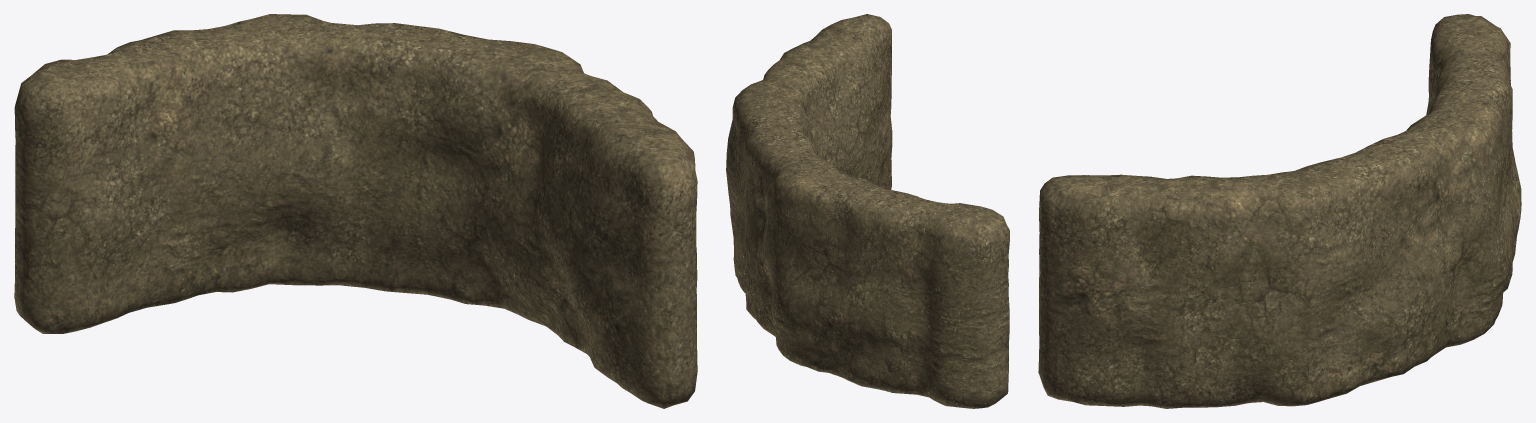
Rendered from CaveWalls2_C.obj.
The picture shows the model from 3 angles, left to right: view 1: azimuth 30°, elevation 25°; view 2: azimuth 150°, elevation 25°; view 3: azimuth 270°, elevation 25°; orthographic projection. The views are drawn at different scales.
Parts seen in each view (by area): view 1: CaveWalls2C; view 2: CaveWalls2C; view 3: CaveWalls2C.
Boxes of the visible parts, x1=… form: CaveWalls2C: x1=14, y1=14, x2=697, y2=408; CaveWalls2C: x1=726, y1=14, x2=1009, y2=408; CaveWalls2C: x1=1038, y1=14, x2=1521, y2=408.
Size of the model in its own units: 65.2 by 33.52 by 67.56.
Materials: 1 (1 with a texture image).
